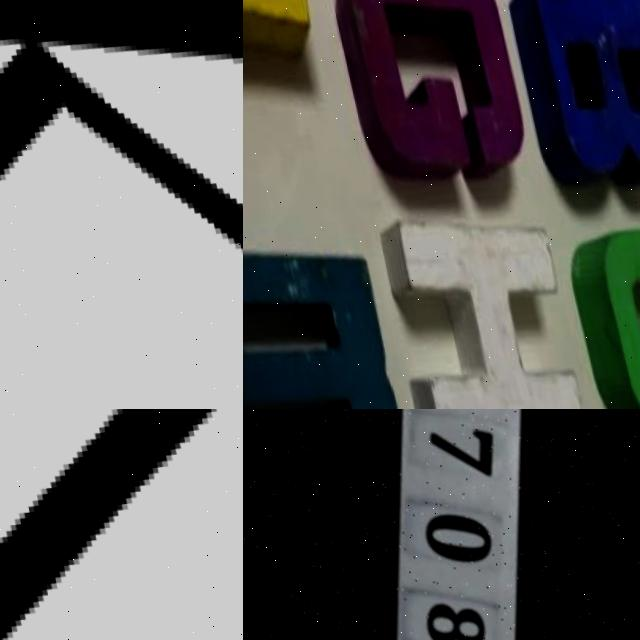0: (395, 482, 516, 579)
7: (401, 409, 519, 487)
8: (396, 575, 505, 640)
B: (510, 0, 640, 189)
C: (562, 212, 640, 409)
G: (330, 0, 528, 186)
H: (378, 198, 582, 409)
K: (0, 0, 243, 409)
M: (243, 224, 411, 409)
N: (0, 409, 243, 640)
